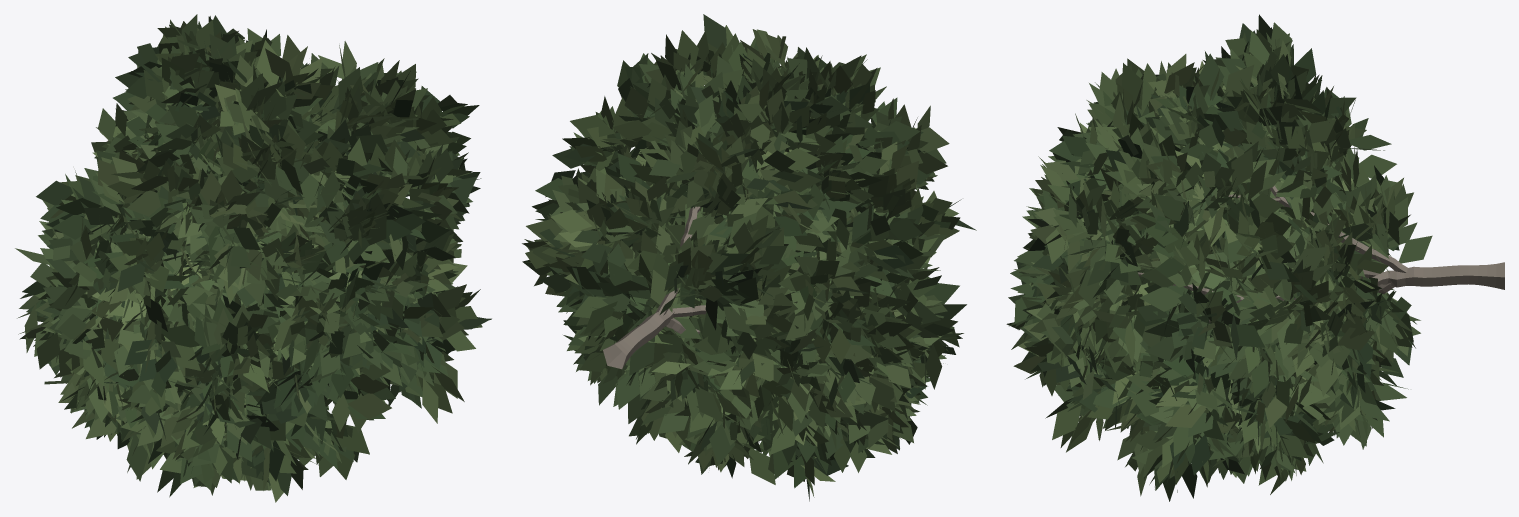
Rendered from tree_mid_03.obj.
3 renders of one model, left to right at view 1: azimuth 30°, elevation 25°; view 2: azimuth 150°, elevation 25°; view 3: azimuth 270°, elevation 25°, orthographic. The views are drawn at different scales.
Visible parts, largest first — view 1: tree_mid_03; view 2: tree_mid_03; view 3: tree_mid_03.
Boxes of the visible parts, left/top/right/bottom form: tree_mid_03: left=15, top=14, right=491, bottom=502; tree_mid_03: left=522, top=14, right=976, bottom=501; tree_mid_03: left=1006, top=14, right=1504, bottom=501.
Size of the model in its own units: 0.9668 by 0.947 by 1.01.
1 material, 1 textured.
